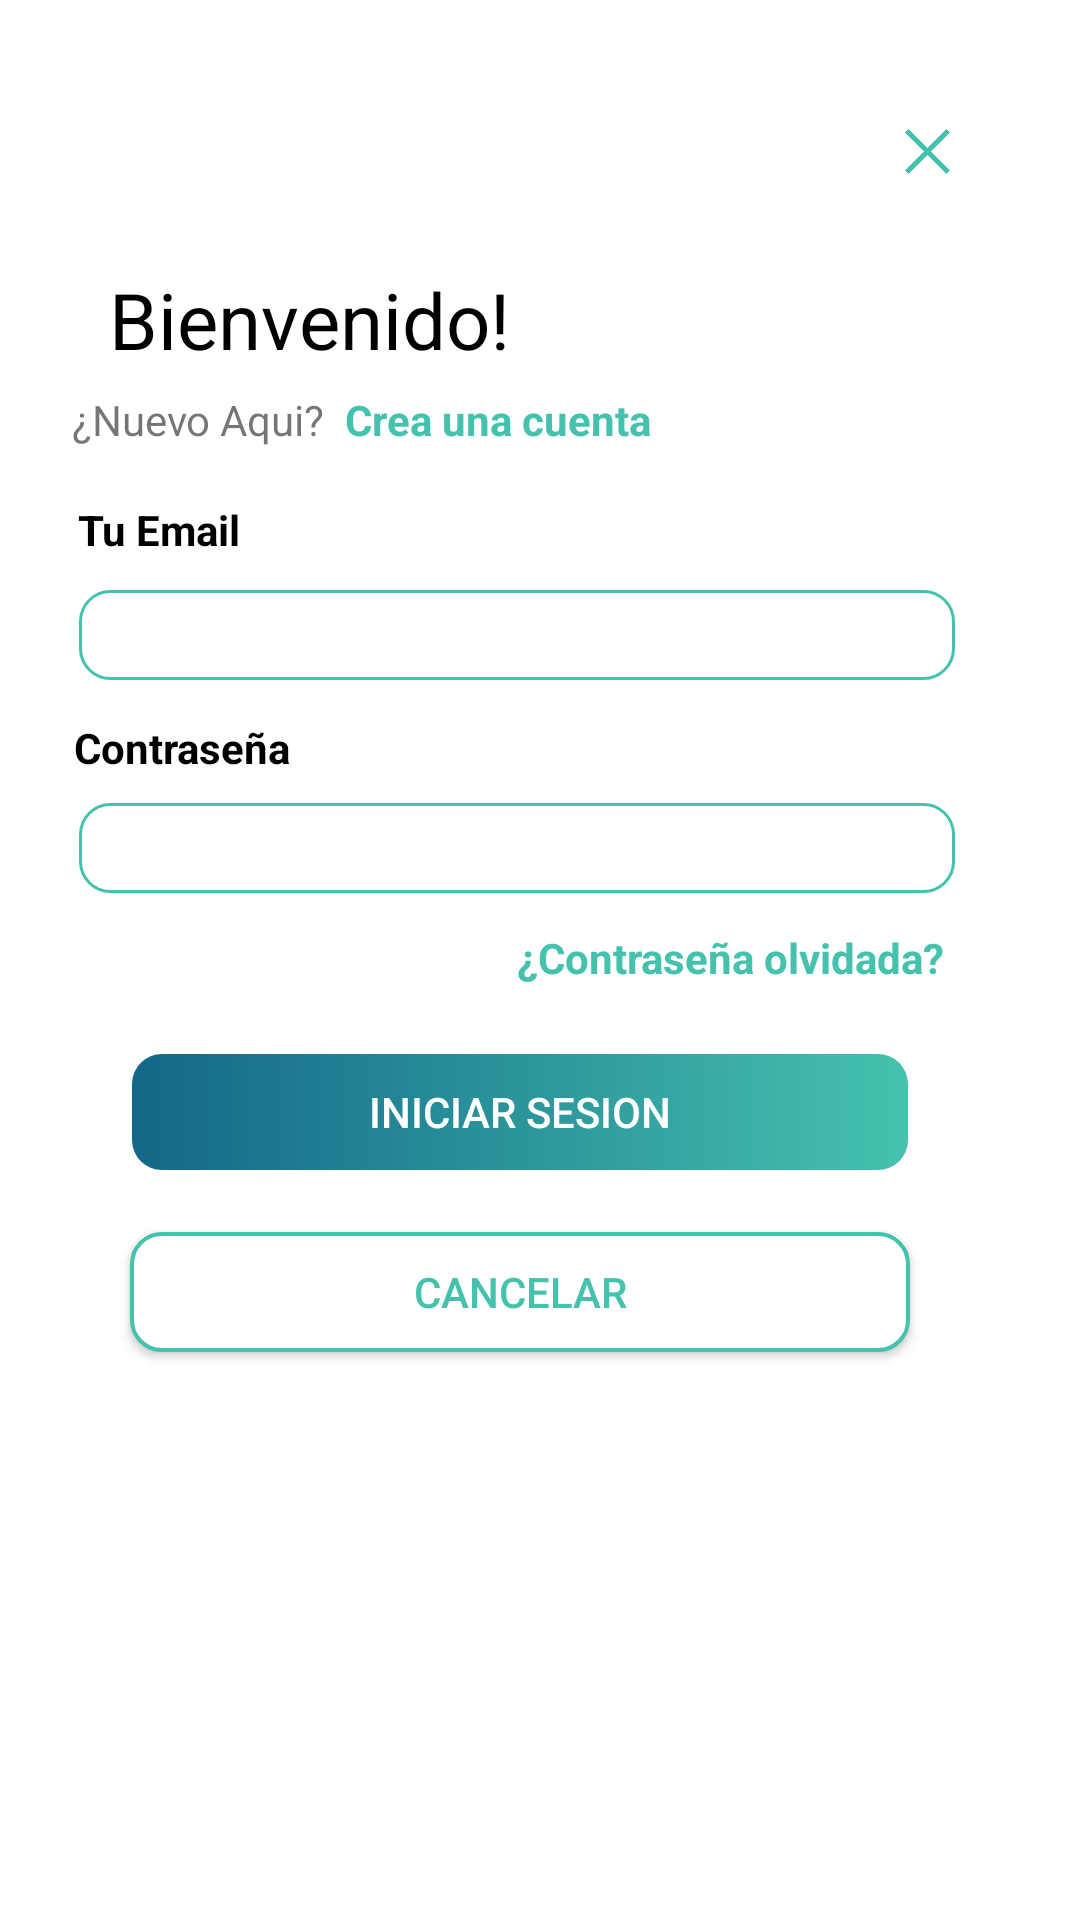

Icon bounding boxes for this 1080px×1920px phone screenshot, format (x1, y1, x2, y2):
close popup: (905, 129, 950, 174)
